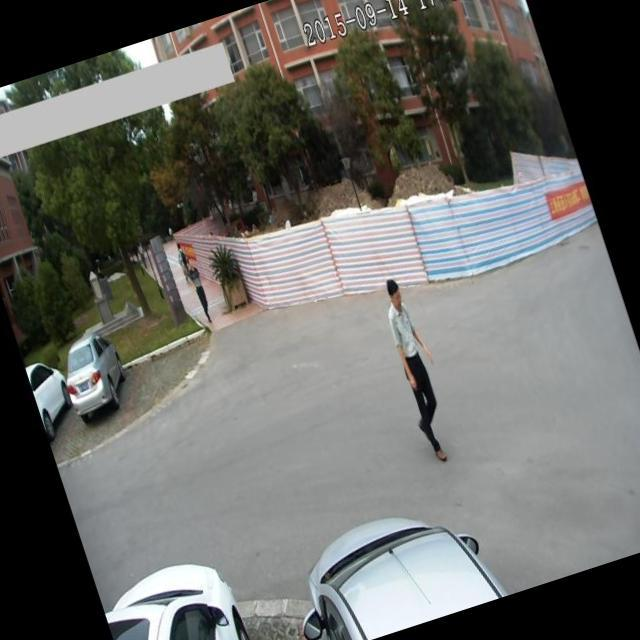person: (367, 266, 470, 474), (180, 252, 219, 326)
